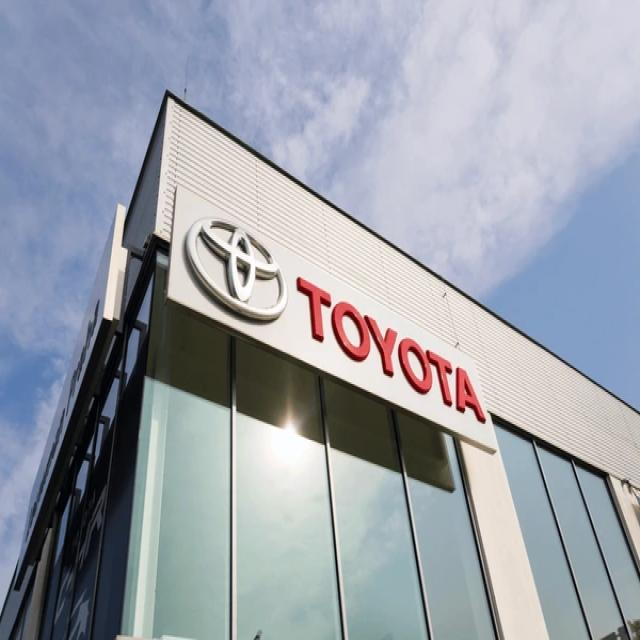toyota: (184, 221, 292, 320)
